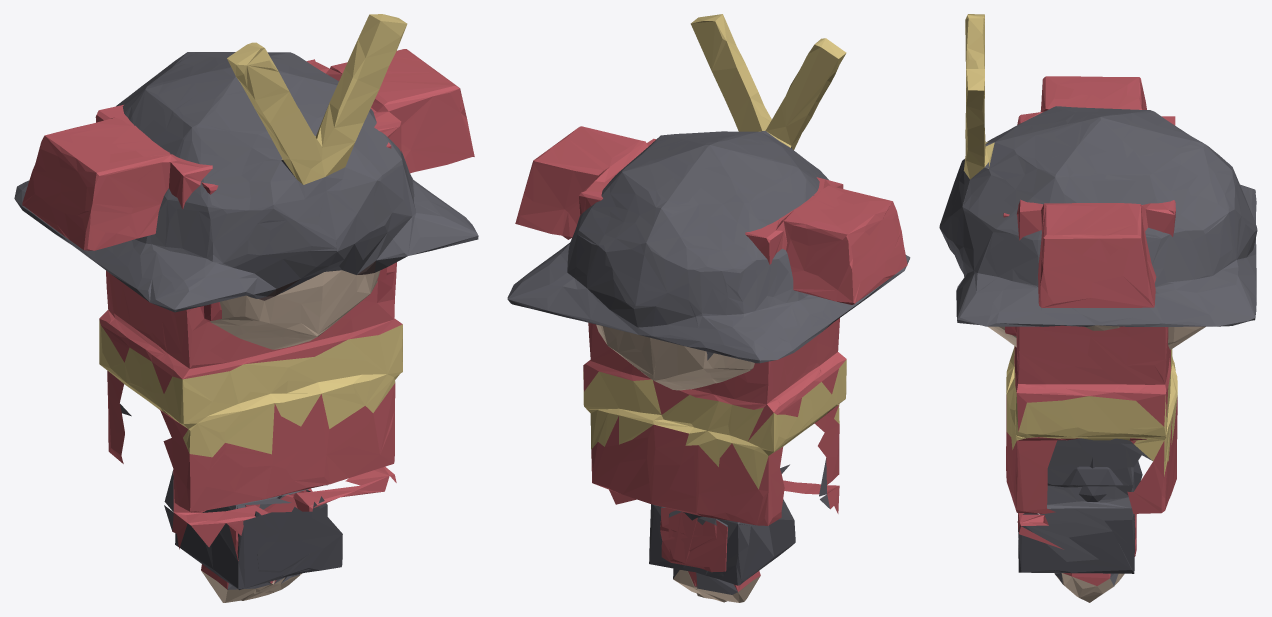
Rendered from samurai.glb.
The picture shows the model from 3 angles, left to right: view 1: azimuth 30°, elevation 25°; view 2: azimuth 150°, elevation 25°; view 3: azimuth 270°, elevation 25°; orthographic projection. The views are drawn at different scales.
Visible parts, largest first — view 1: torso, head, legL_l, legR_l, armL_l, armR_l; view 2: head, torso, legL_l, armL_l, armR_l, legR_l; view 3: head, torso, legR_l, legL_u, legL_l, armR_l, legR_u.
Boxes of the visible parts, x1,y1,x2,y2 form: torso: (22,49,474,549); head: (14,14,478,349); legL_l: (175,495,327,589); legR_l: (237,485,342,577); armL_l: (201,493,294,602); armR_l: (240,488,312,600); head: (507,14,910,439); torso: (515,126,907,525); legL_l: (678,499,795,585); armL_l: (668,510,760,602); armR_l: (660,507,726,602); legR_l: (649,504,723,576); head: (939,14,1257,349); torso: (1003,76,1177,549); legR_l: (1018,487,1134,573); legL_u: (1047,438,1141,487); legL_l: (1018,461,1142,538); armR_l: (1054,514,1136,602); legR_u: (1047,485,1132,501).
Bounding box in the file's own units: 1.07 × 1.6 × 0.8387.
